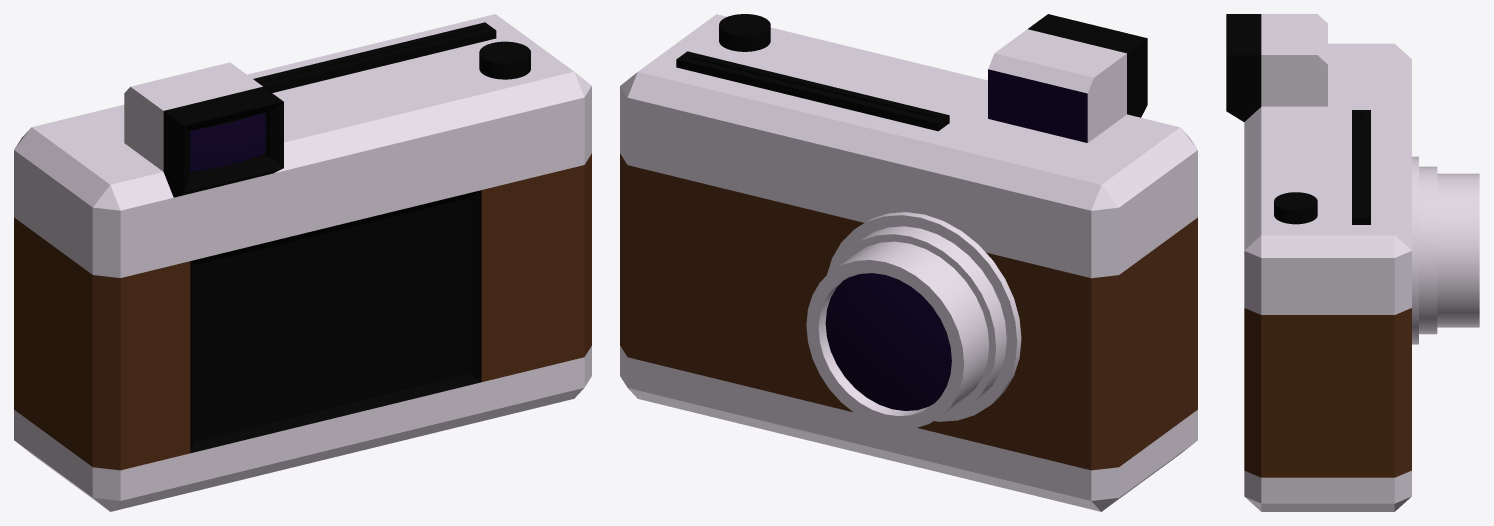
File: camera.fbx
The picture shows the model from 3 angles, left to right: view 1: azimuth 30°, elevation 25°; view 2: azimuth 150°, elevation 25°; view 3: azimuth 270°, elevation 25°; orthographic projection. The views are drawn at different scales.
Parts seen in each view (by area): view 1: CameraObj, Button; view 2: CameraObj, Lens, Button; view 3: CameraObj, Lens, Button.
Part boxes in pixels (x1,y1,x2,y2): CameraObj: [14, 14, 591, 511]; Button: [479, 41, 530, 79]; CameraObj: [620, 14, 1197, 511]; Lens: [806, 212, 1021, 429]; Button: [719, 14, 770, 51]; CameraObj: [1226, 14, 1411, 511]; Lens: [1412, 156, 1479, 344]; Button: [1274, 192, 1317, 224].
Size of the model in its own units: 31.94 by 23.73 by 16.58.
